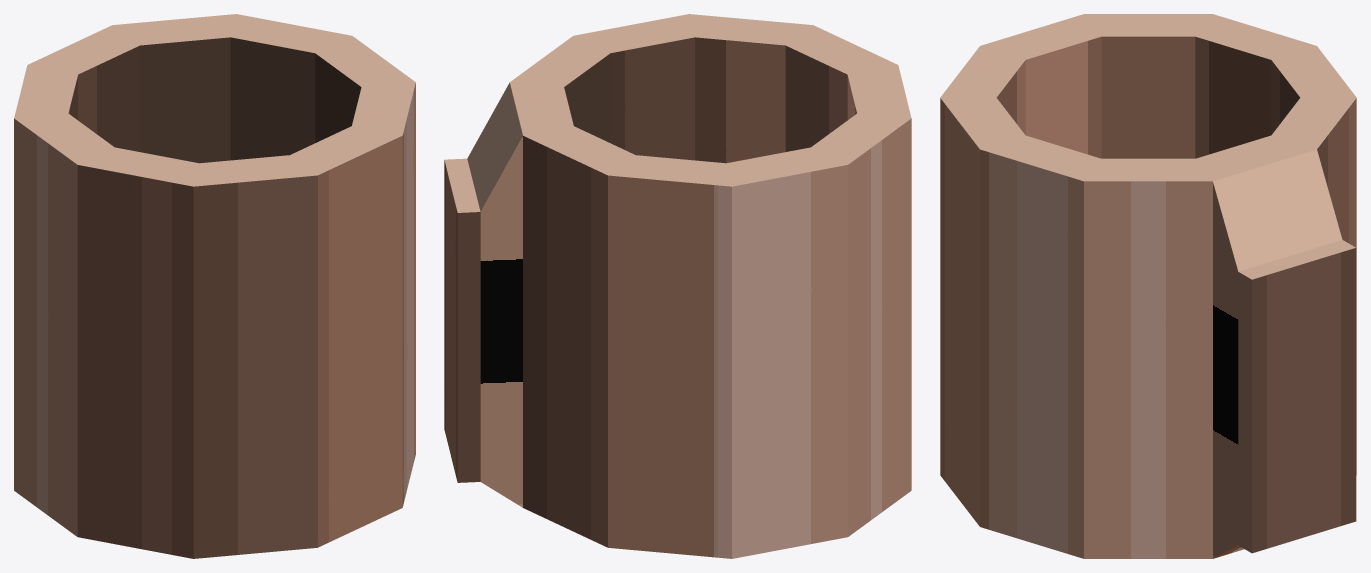
Rendered from cup_628x09.gltf.
3 views of the same model, side by side, from view 1: azimuth 30°, elevation 25°; view 2: azimuth 150°, elevation 25°; view 3: azimuth 270°, elevation 25° (orthographic).
Parts seen in each view (by area): view 1: cup_628x09; view 2: cup_628x09; view 3: cup_628x09.
Part boxes in pixels (left/top/right/bottom): cup_628x09: left=14, top=14, right=415, bottom=558; cup_628x09: left=444, top=14, right=911, bottom=558; cup_628x09: left=940, top=14, right=1356, bottom=558.
Bounding box in the file's own units: 0.4322 × 0.4 × 0.4.
1 material, 1 textured.
